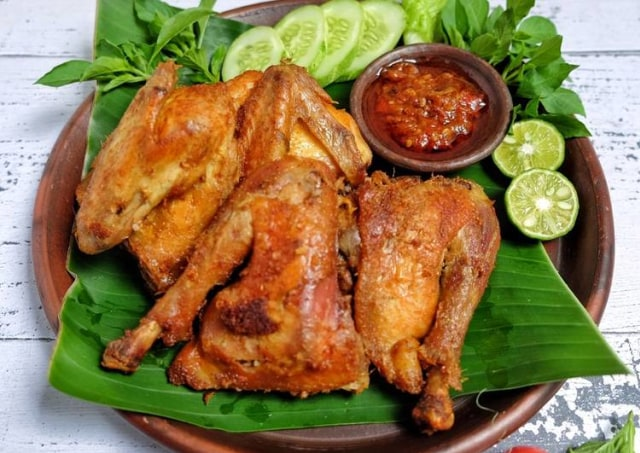Ayam: (124, 130, 363, 420), (330, 154, 507, 445), (62, 64, 239, 294)
